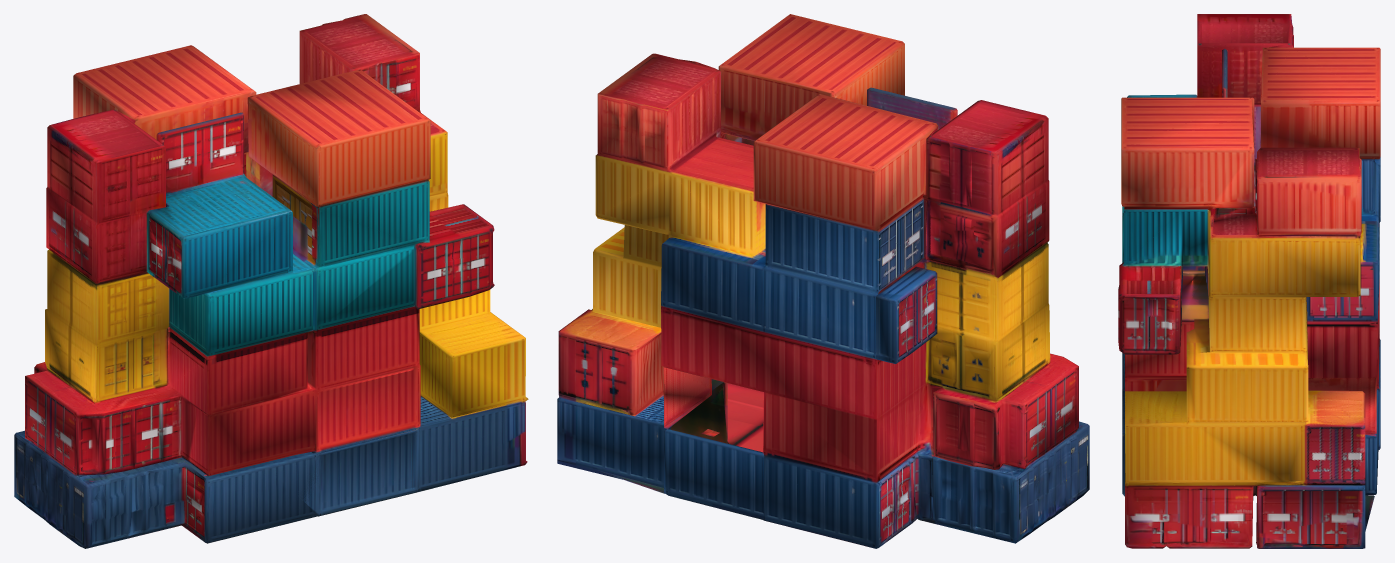
The model's file is container.glb.
3 renders of one model, left to right at view 1: azimuth 30°, elevation 25°; view 2: azimuth 150°, elevation 25°; view 3: azimuth 270°, elevation 25°, orthographic. The views are drawn at different scales.
Size of the model in its own units: 1.91 by 1.61 by 1.08.
1 material, 1 textured.
